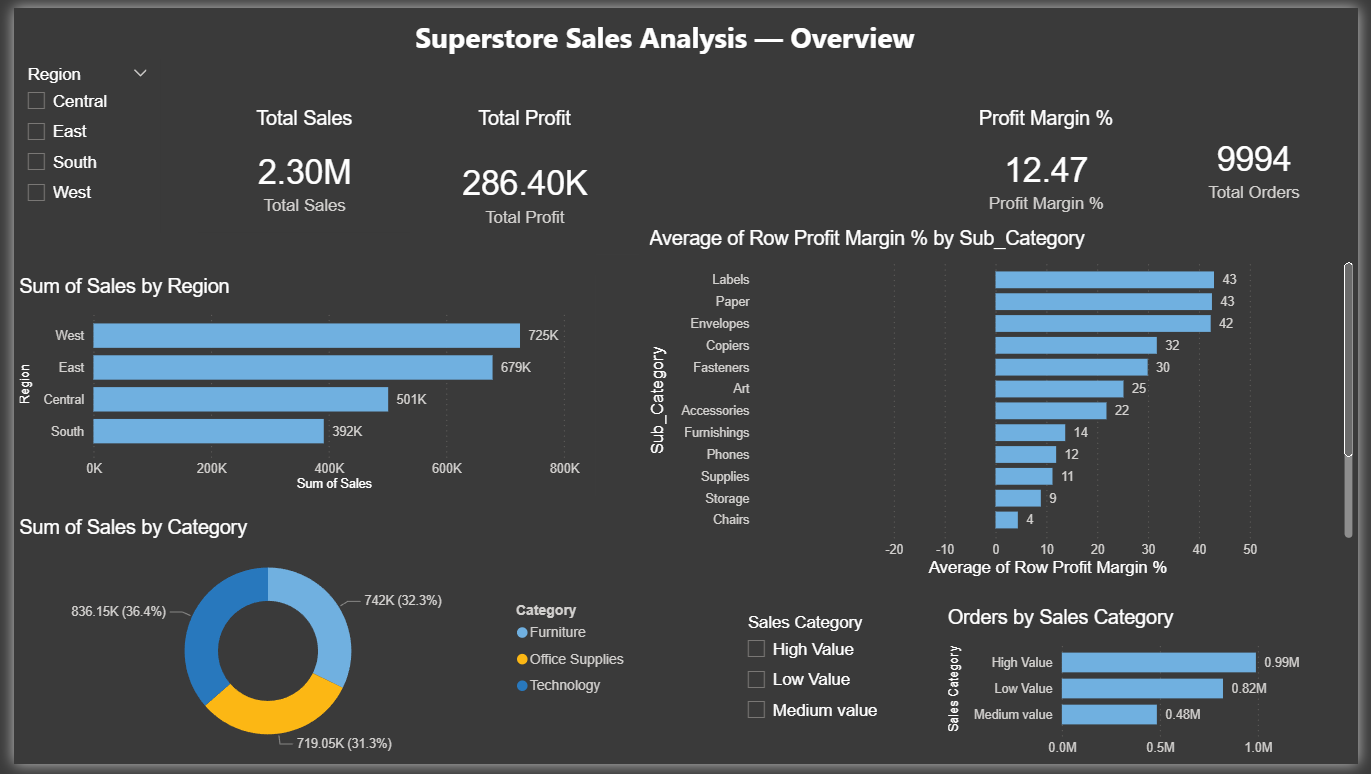

The page's visual inventory and layout, read from the dashboard file:
{"tool":"powerbi","page":{"name":"Overview","canvas":[1280,720],"ordinal":0},"visuals":[{"type":"slicer","fields":{"Values":["SampleSuperstore.Region"]},"box":[0,48.5,139.3,165],"z":0},{"type":"clusteredBarChart","fields":{"Category":["SampleSuperstore.Region"],"Y":["Sum(SampleSuperstore.Sales)"]},"box":[0,254.4,554.2,210.5],"z":1000},{"type":"card","title":"Total Sales","fields":{"Values":["SampleSuperstore.Total Sales"]},"box":[175.6,93.9,201.4,119.6],"z":2000},{"type":"card","title":"Total Profit","fields":{"Values":["SampleSuperstore.Total Profit"]},"box":[377,93.9,218,140.8],"z":3000},{"type":"donutChart","fields":{"Y":["Sum(SampleSuperstore.Sales)"],"Series":["SampleSuperstore.Category"]},"box":[0,484.5,595.1,234.7],"z":4000},{"type":"card","title":"Profit Margin %","fields":{"Values":["SampleSuperstore.Profit Margin %"]},"box":[884.3,93.9,196.8,115.1],"z":5000},{"type":"card","fields":{"Values":["SampleSuperstore.Total Orders"]},"box":[1081.1,93.9,198.4,115.1],"z":6000},{"type":"barChart","fields":{"Category":["SampleSuperstore.Sub-Category"],"Y":["Avg(SampleSuperstore.Row Profit Margin %)"]},"box":[599.6,209,679.9,337.7],"z":7000},{"type":"clusteredBarChart","title":"Orders by Sales Category","fields":{"Category":["SampleSuperstore.Sales Category"],"Y":["Sum(SampleSuperstore.Sales)"]},"box":[884.3,569.3,395.2,149.9],"z":8000},{"type":"slicer","fields":{"Values":["SampleSuperstore.Sales Category"]},"box":[685.9,569.3,178.7,149.9],"z":9000},{"type":"textbox","box":[377,4.5,528.5,65.1],"z":10000}]}

Visuals, with their boxes in screenshot pixels (x1, y1, x2, y2), scaled from the page's 1280x720 canvas onto the 1371x774 screenshot:
slicer - SampleSuperstore.Region: <region>0, 52, 149, 230</region>
clusteredBarChart - SampleSuperstore.Region x Sum(SampleSuperstore.Sales): <region>0, 273, 594, 500</region>
"Total Sales" card: <region>188, 101, 404, 230</region>
"Total Profit" card: <region>404, 101, 637, 252</region>
donutChart - Sum(SampleSuperstore.Sales) x SampleSuperstore.Category: <region>0, 521, 637, 773</region>
"Profit Margin %" card: <region>947, 101, 1158, 225</region>
card - SampleSuperstore.Total Orders: <region>1158, 101, 1370, 225</region>
barChart - SampleSuperstore.Sub-Category x Avg(SampleSuperstore.Row Profit Margin %): <region>642, 225, 1370, 588</region>
"Orders by Sales Category" clusteredBarChart: <region>947, 612, 1370, 773</region>
slicer - SampleSuperstore.Sales Category: <region>735, 612, 926, 773</region>
textbox: <region>404, 5, 970, 75</region>
